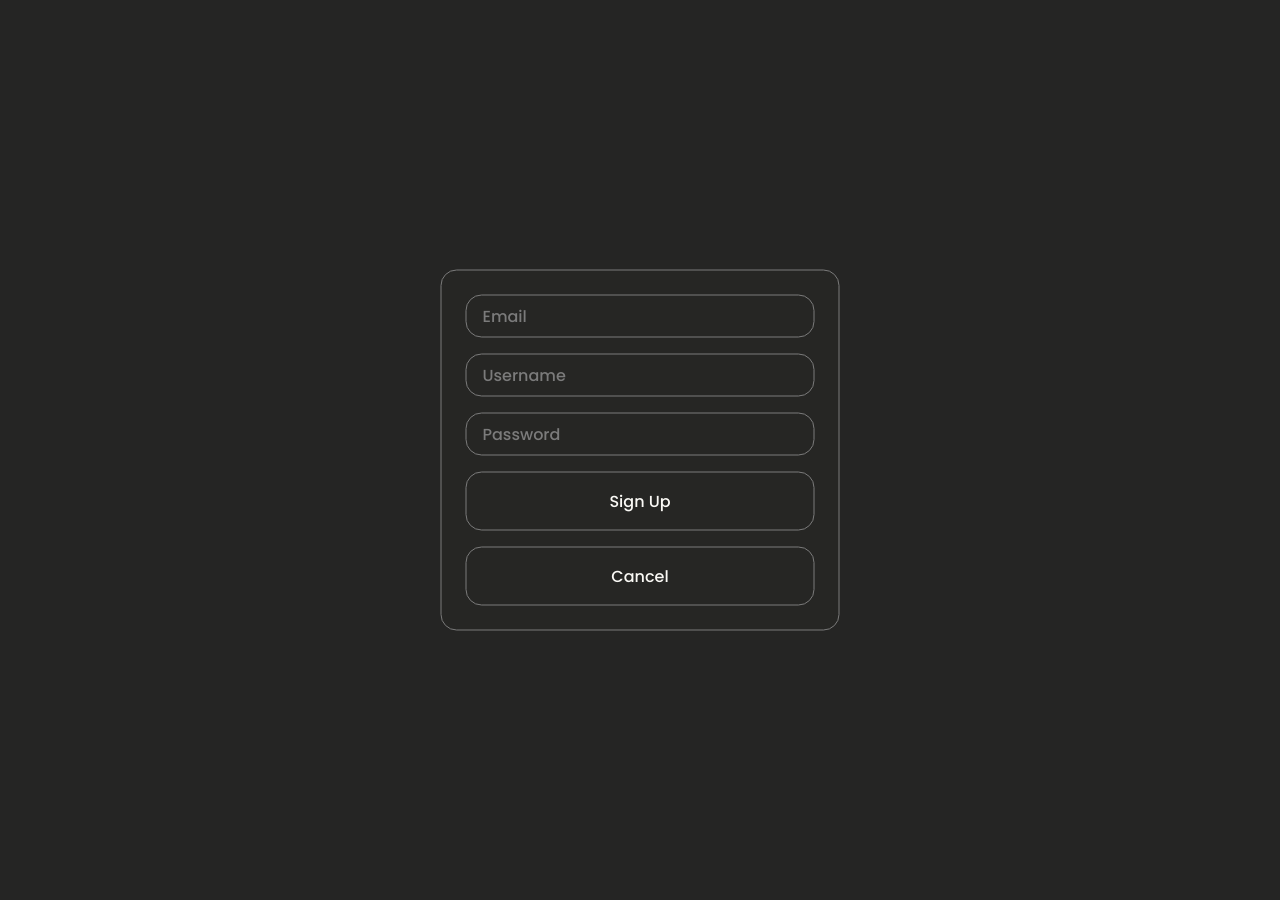
Test case: Signup component › Failed signup › should show error message on validation failure
This screenshot has width=1280, height=900.
Type "existing@example.com" into the field with placeholder "Email". click: (640, 316)
box: [466,294,814,338]
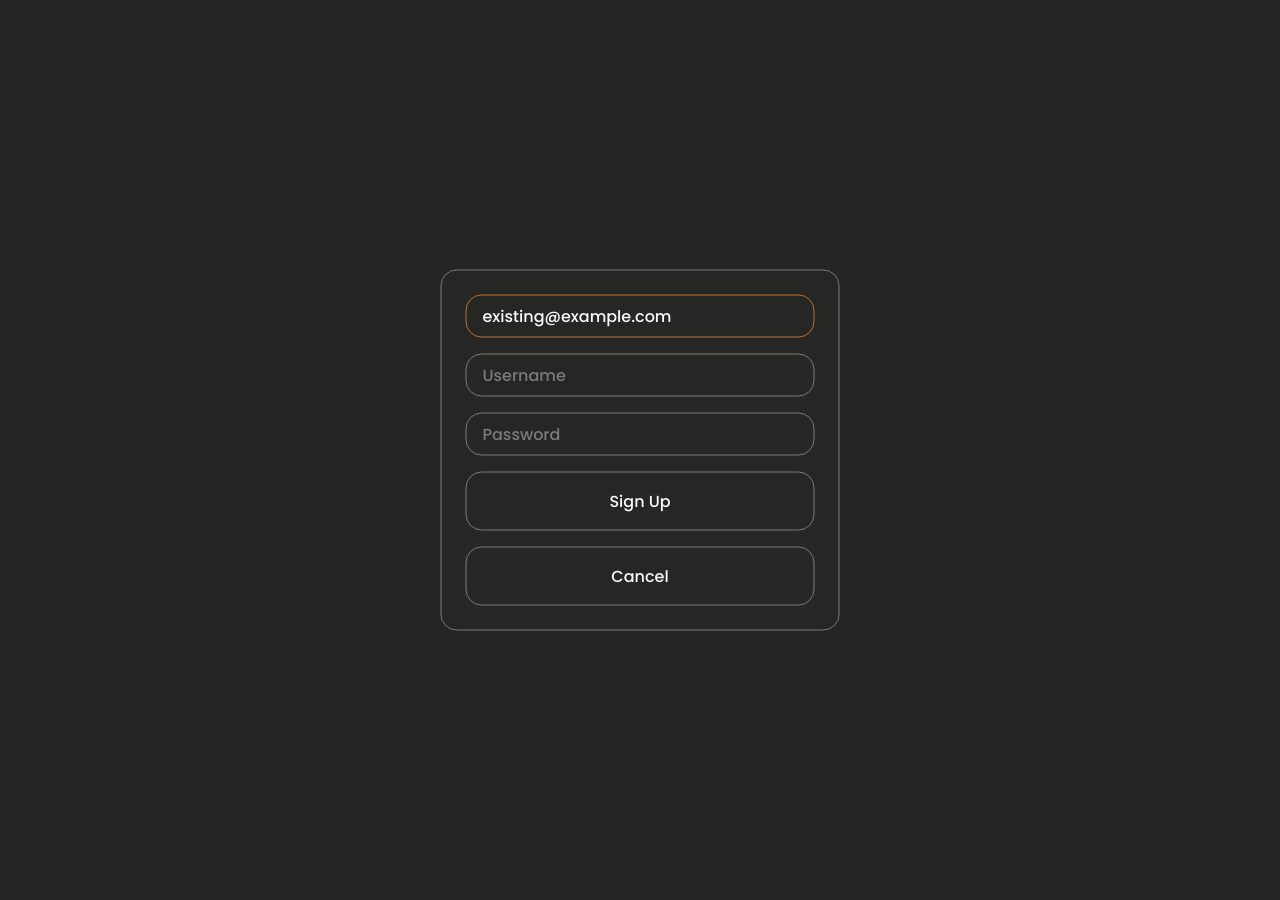
Type "username" into the field with placeholder "Username". click: (640, 375)
box: [466,354,814,396]
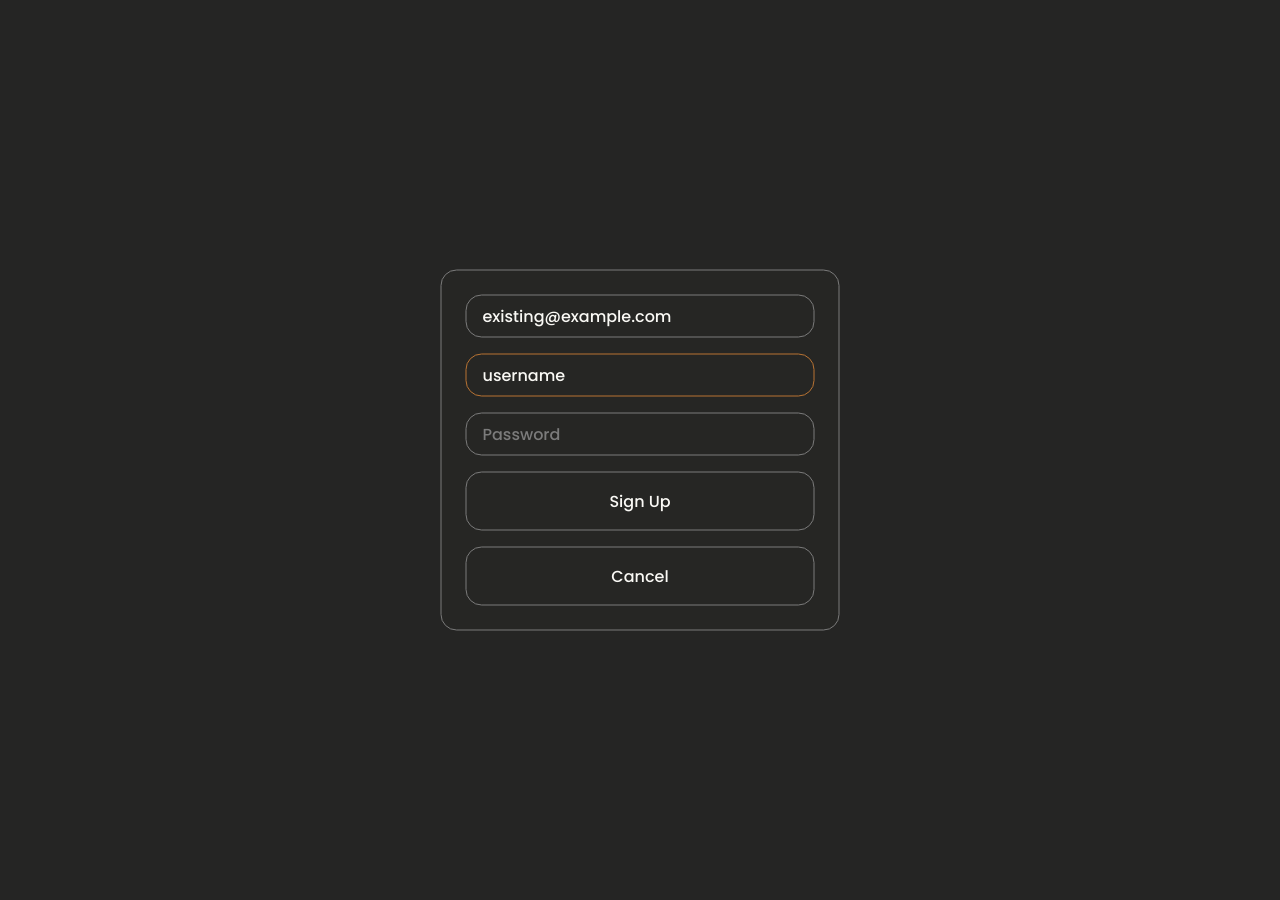
Type "password123" into the password field with placeholder "Password". click: (640, 434)
box: [466,412,814,456]
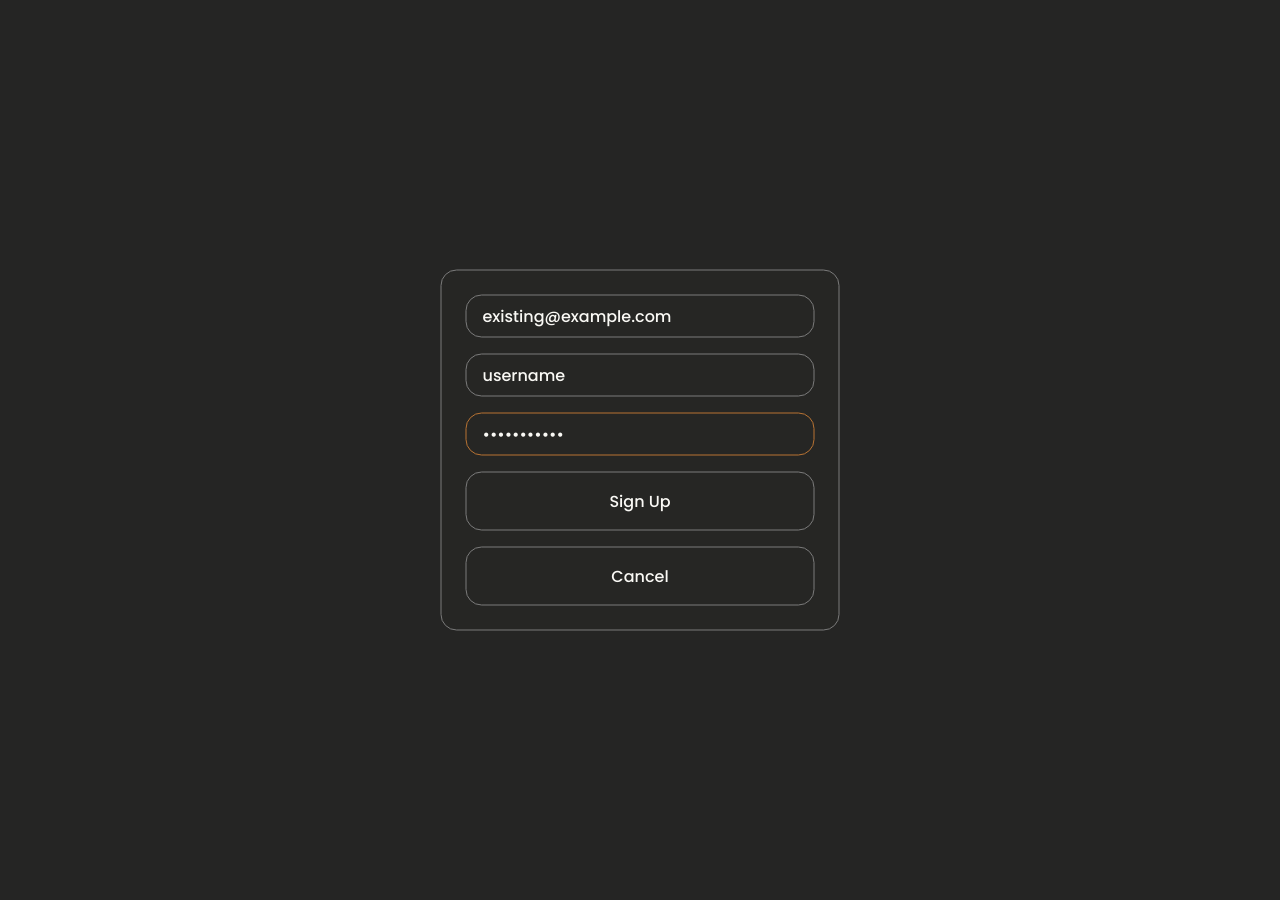
Click the button "Sign Up". click: (640, 501)
box: [466,472,814,530]
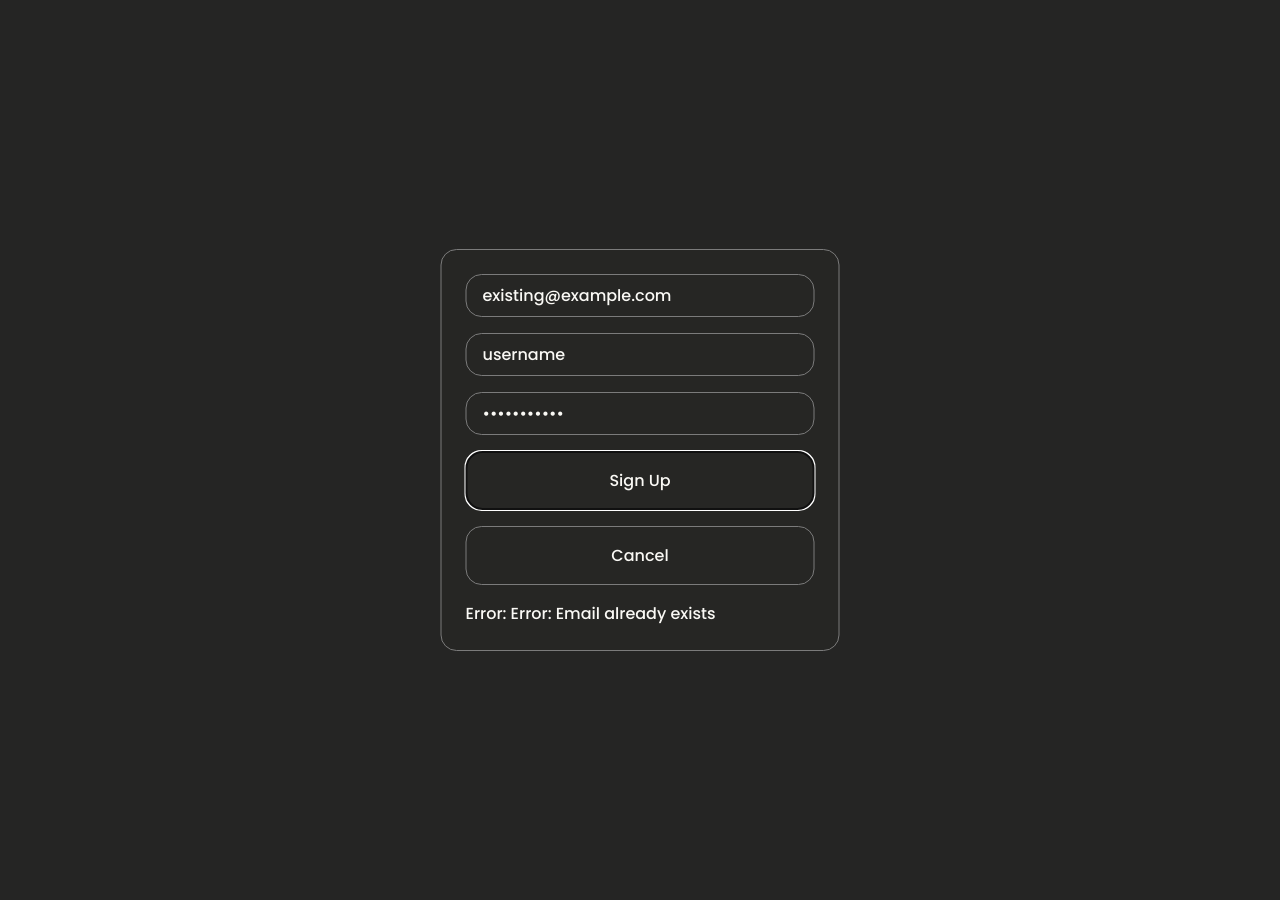
Result: the text "Error: Error: Email already exists" is shown at [466,602,716,625]
